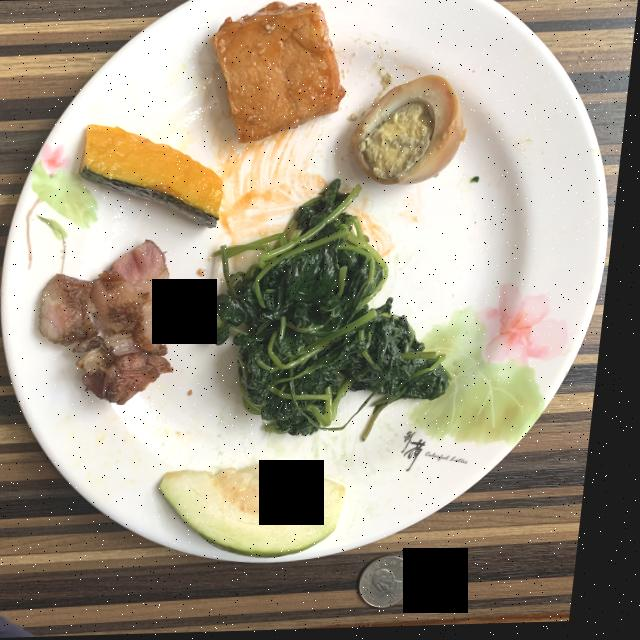coin: (373, 558, 428, 609)
creamy tofu: (212, 3, 347, 143)
grilled pork: (46, 241, 181, 405)
guava -sliced-: (171, 463, 357, 559)
pumpkin: (84, 124, 227, 228)
soy egg: (356, 77, 467, 186)
sweet potato leaves: (212, 182, 459, 441)
